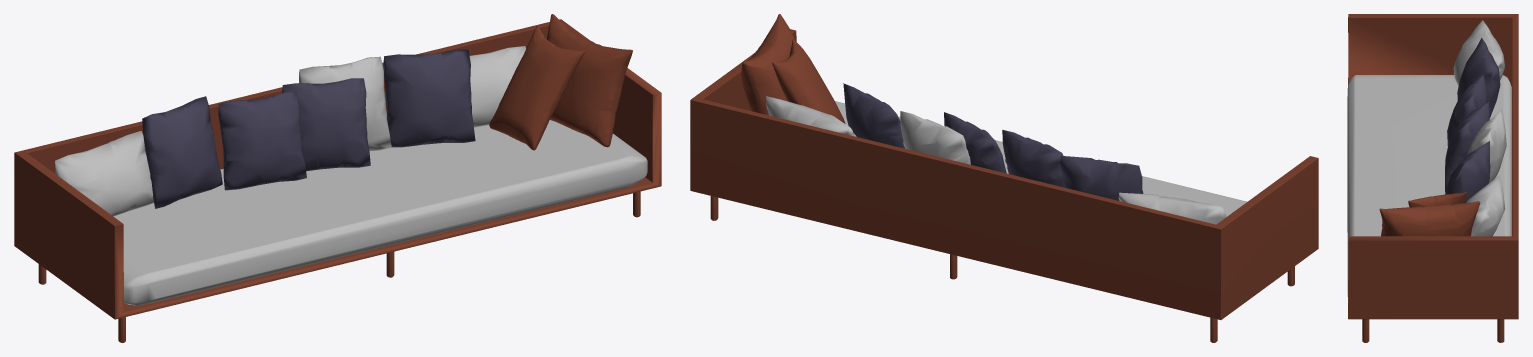
The model's file is sofa-modelo-triplo-pes.glb.
3 renders of one model, left to right at view 1: azimuth 30°, elevation 25°; view 2: azimuth 150°, elevation 25°; view 3: azimuth 270°, elevation 25°, orthographic. The views are drawn at different scales.
Parts seen in each view (by area): view 1: Modelo Triplo Pes; view 2: Modelo Triplo Pes; view 3: Modelo Triplo Pes.
Part boxes in pixels (left/top/right/bottom): Modelo Triplo Pes: left=14, top=14, right=661, bottom=342; Modelo Triplo Pes: left=690, top=14, right=1318, bottom=342; Modelo Triplo Pes: left=1347, top=14, right=1518, bottom=342.
Bounding box in the file's own units: 3 × 0.8358 × 0.9603.
